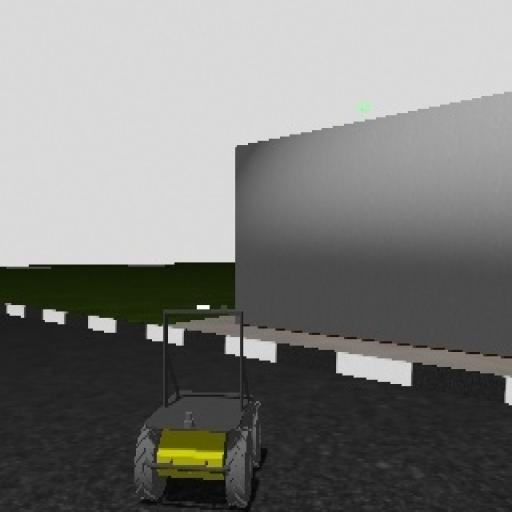huskya200: (134, 304, 274, 512)
